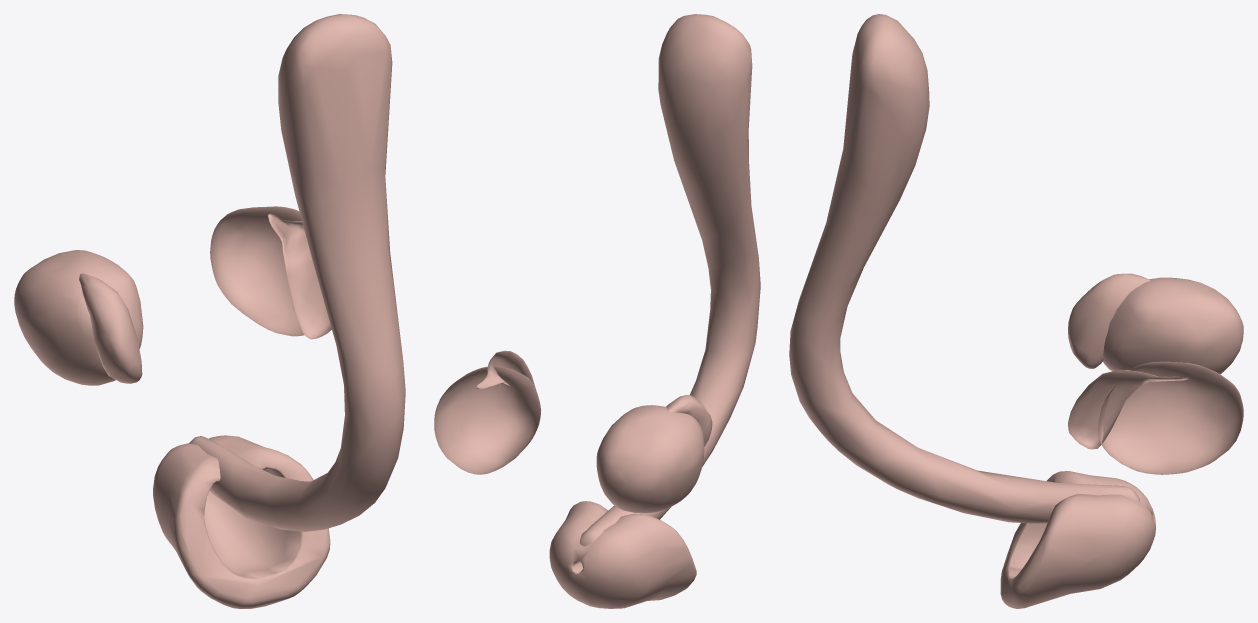
Rendered from lowerlimb__organs.1e9edadd35.glb.
3 views of the same model, side by side, from view 1: azimuth 30°, elevation 25°; view 2: azimuth 150°, elevation 25°; view 3: azimuth 270°, elevation 25° (orthographic). The views are drawn at different scales.
Parts seen in each view (by area): view 1: Corpus spongiosum of penis, Glans penis, Testis.r, Testis.l, Epididymis.r, Epididymis.l; view 2: Corpus spongiosum of penis, Glans penis, Testis.r, Testis.l, Epididymis.l, Epididymis.r; view 3: Corpus spongiosum of penis, Glans penis, Testis.l, Testis.r, Epididymis.r, Epididymis.l.
Boxes of the visible parts, x1,y1,x2,y2 form: Corpus spongiosum of penis: (189,14,405,531); Glans penis: (153,435,330,608); Testis.r: (14,250,143,385); Testis.l: (210,206,303,336); Epididymis.r: (79,273,142,383); Epididymis.l: (268,213,331,339); Corpus spongiosum of penis: (580,14,760,546); Glans penis: (549,501,696,608); Testis.r: (596,405,704,513); Testis.l: (434,366,541,474); Epididymis.l: (476,350,536,396); Epididymis.r: (666,395,712,446); Corpus spongiosum of penis: (789,14,1139,523); Glans penis: (1000,471,1155,608); Testis.l: (1098,361,1243,474); Testis.r: (1103,277,1243,374); Epididymis.r: (1068,273,1150,368); Epididymis.l: (1068,370,1189,449).
Bounding box in the file's own units: 60.47 × 125 × 89.16.
